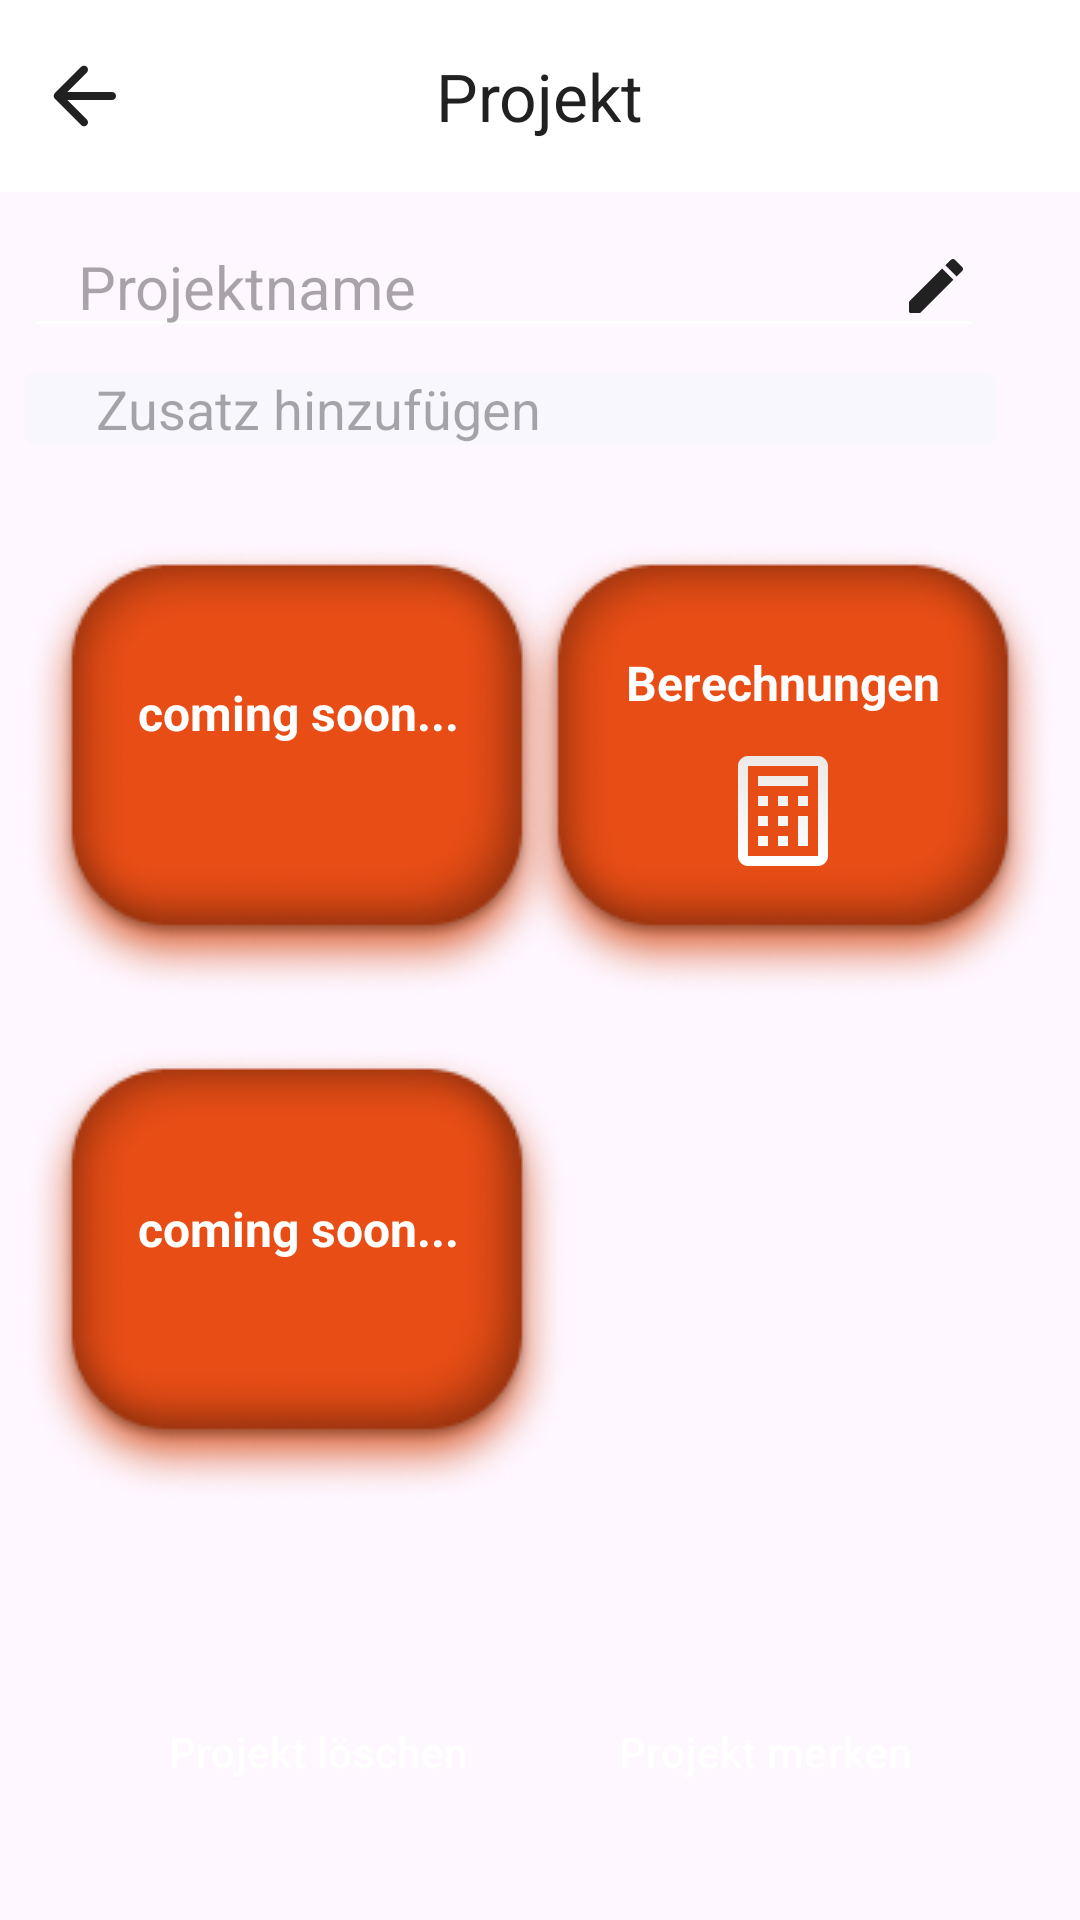

Where to tap for icons on this 1080 x 1920 app screen, as (x=x, y=y):
calculations: (x=783, y=811)
